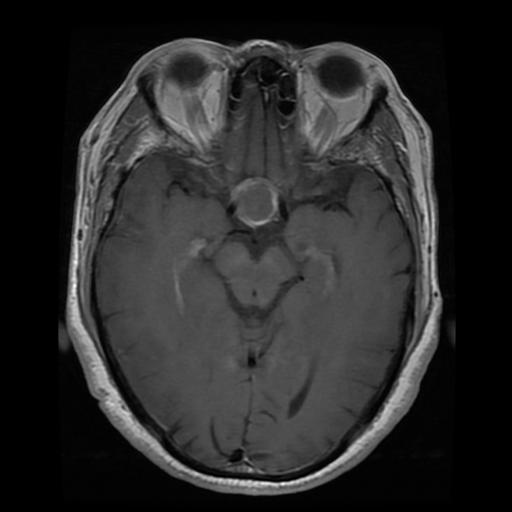Pituirity_tumour: (225, 175, 279, 226)
